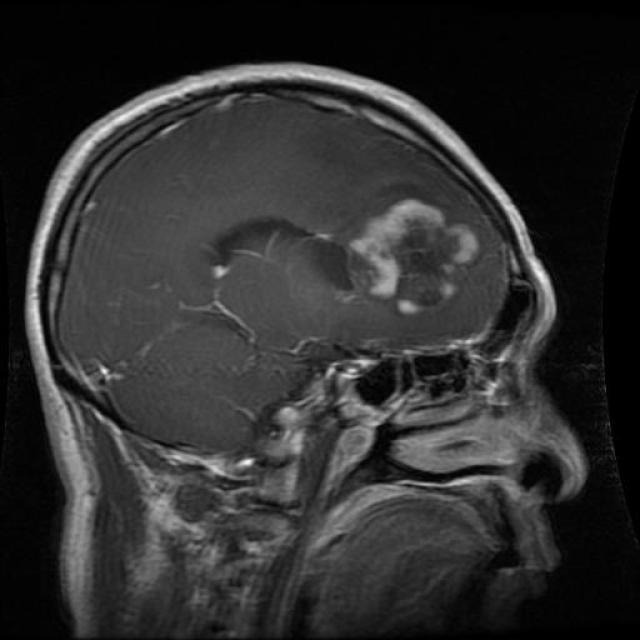glioma: (212, 186, 486, 322)
